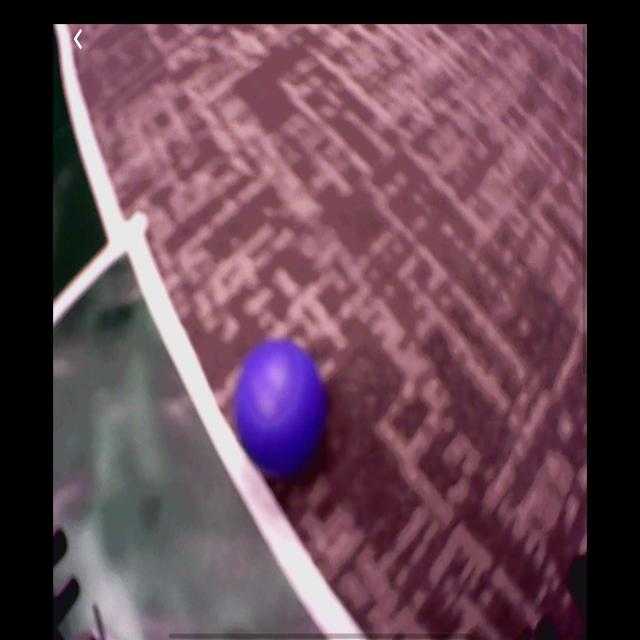ball: (237, 341, 326, 471)
